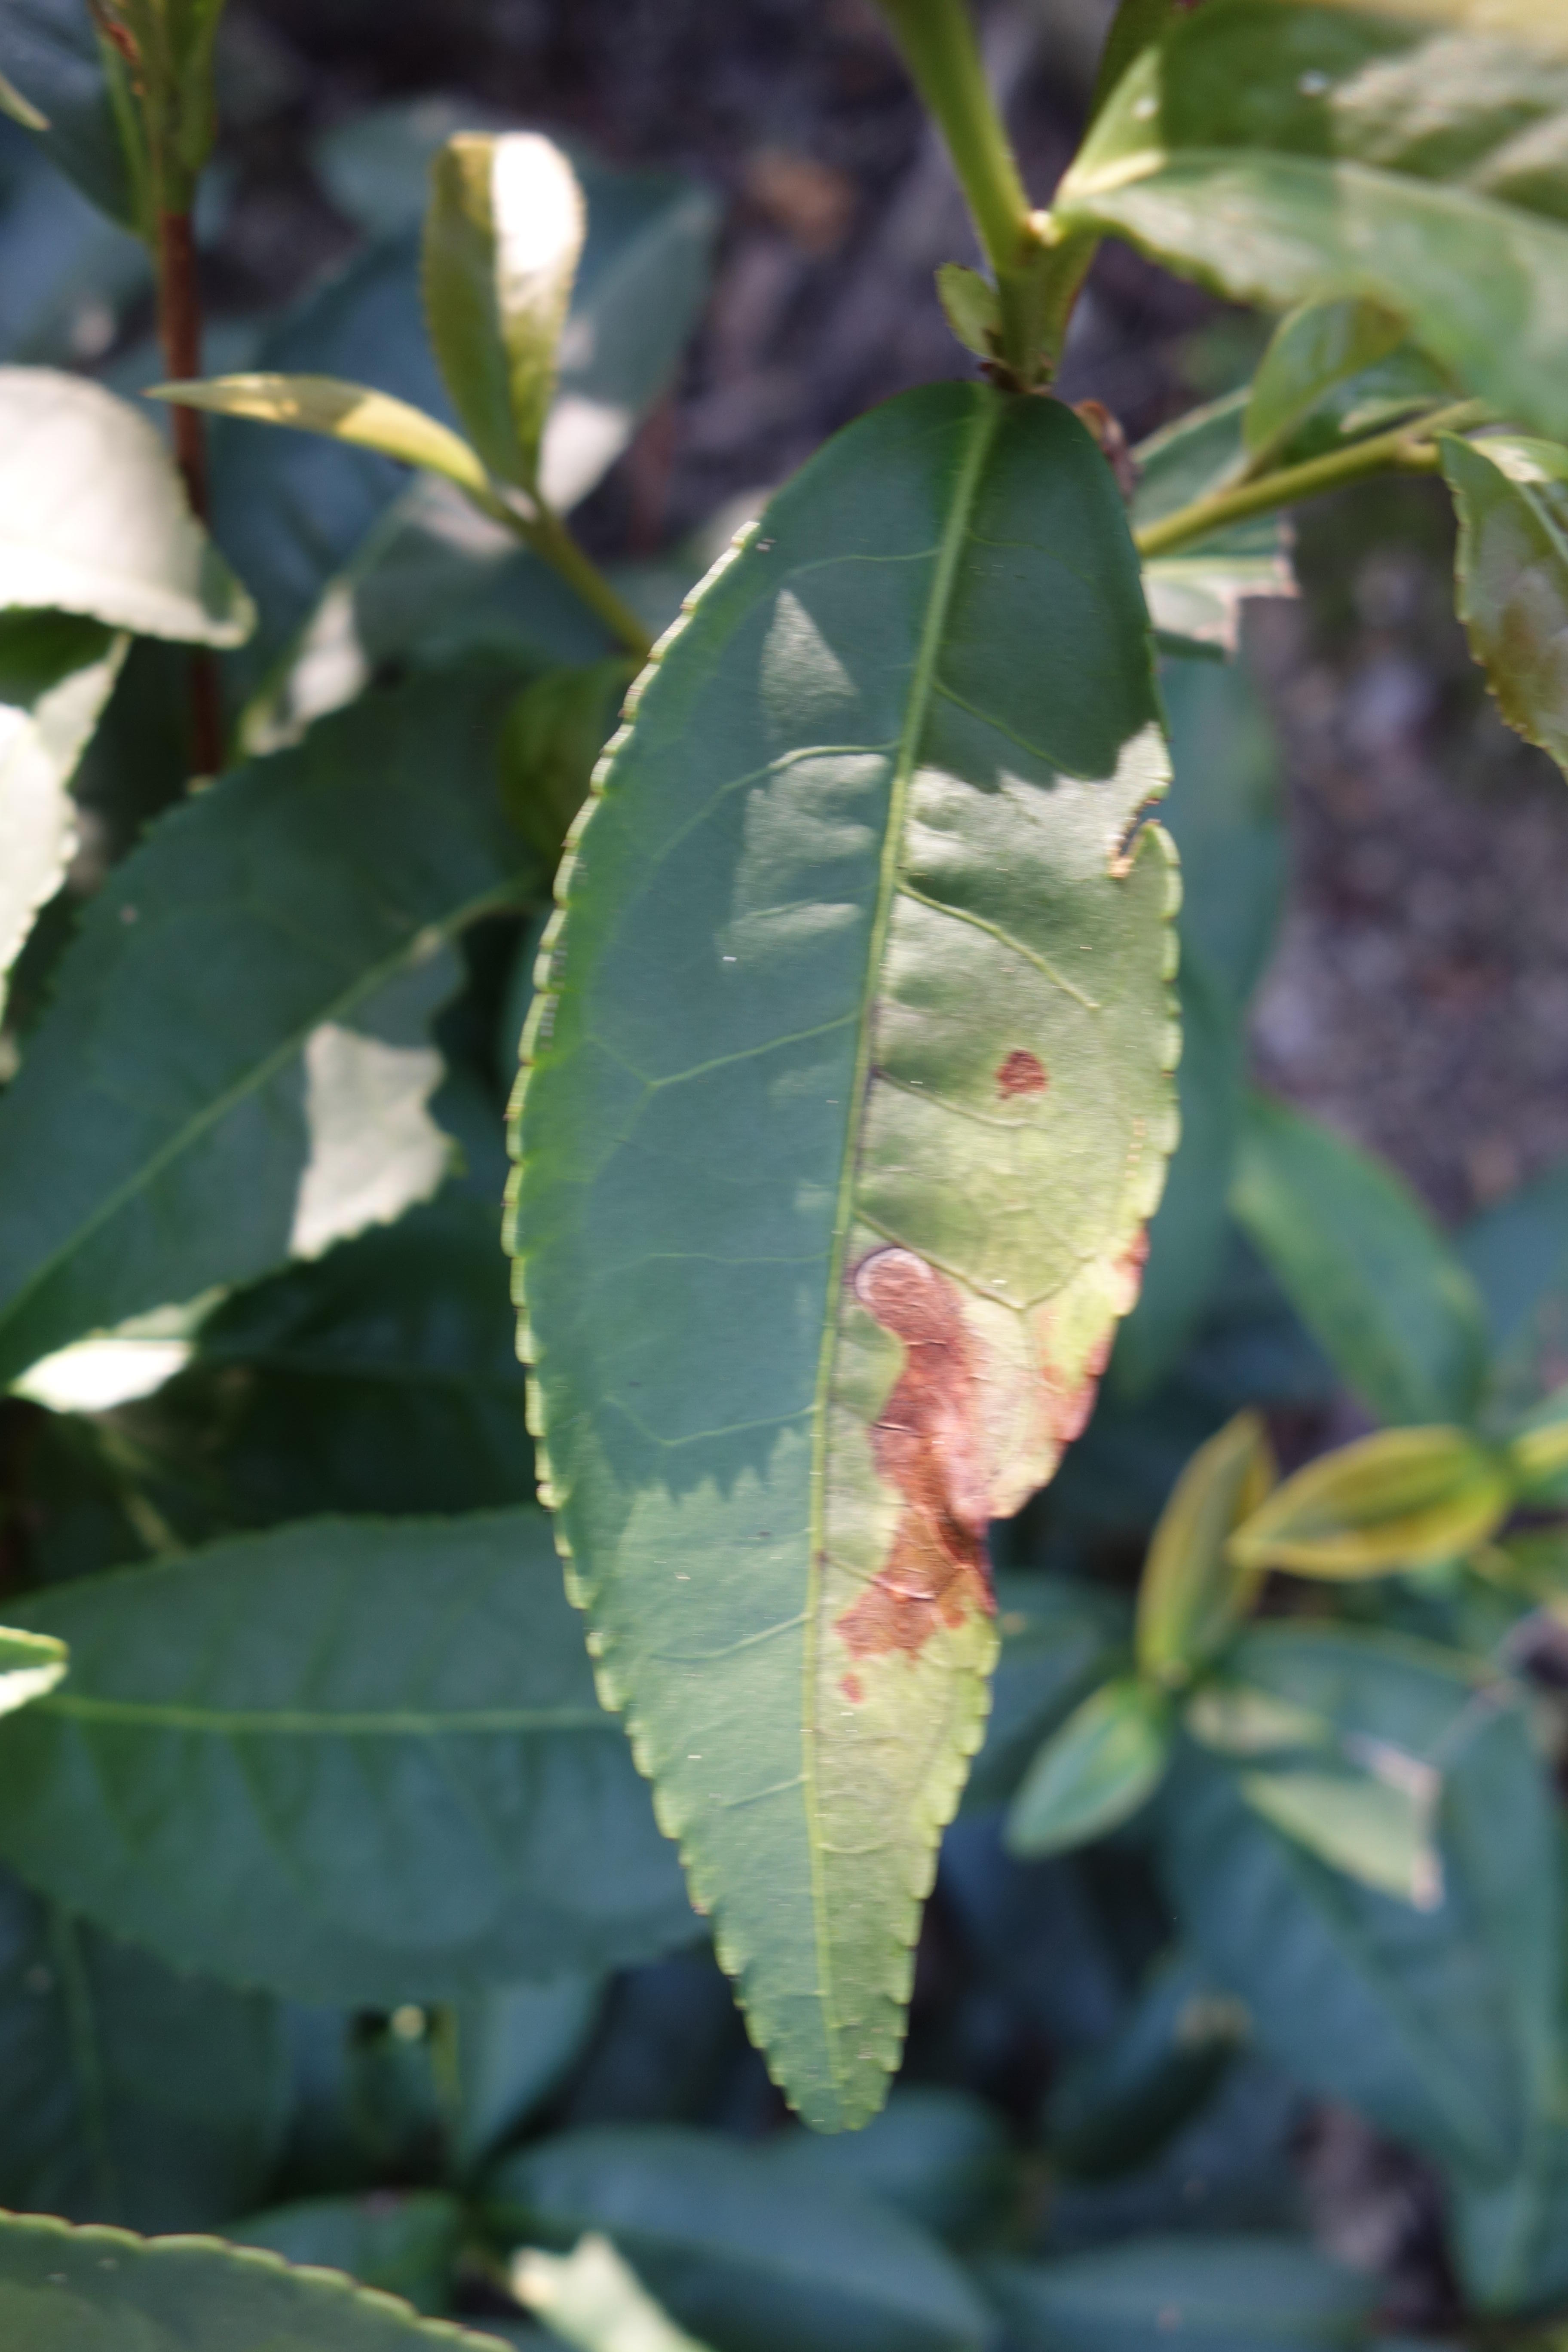tanju_high: (507, 397, 1186, 2144)
tanju_low: (416, 122, 598, 464), (149, 369, 490, 500), (1437, 427, 1568, 761)
